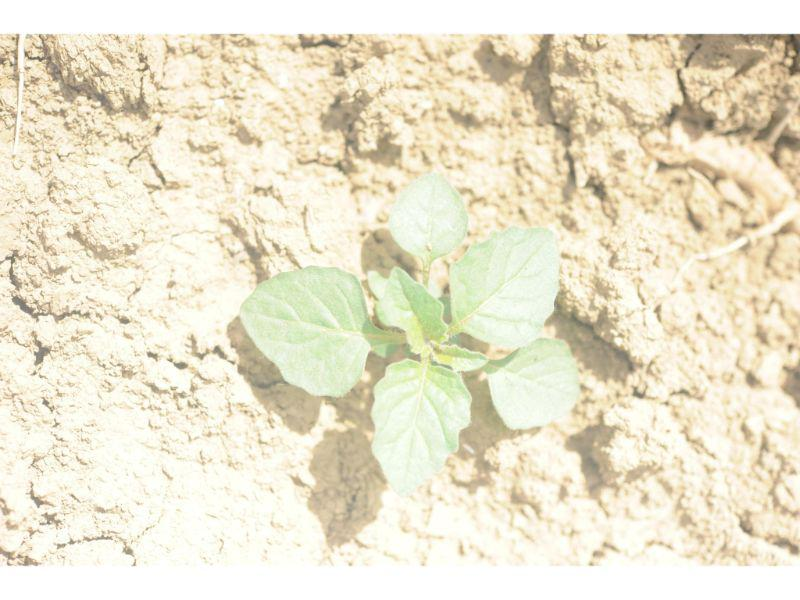nightshade: (242, 173, 579, 491)
